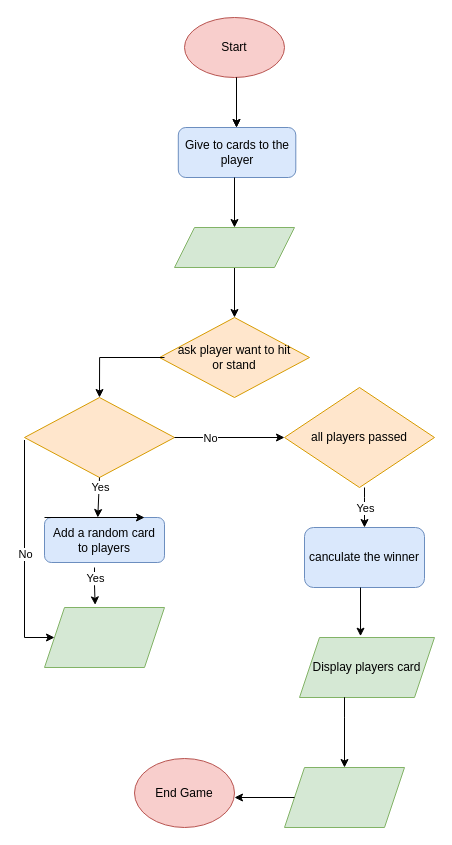
Image size: 452x845. Some labels were removed from this diagram. The shapes that lost their labels are listed below. From the top down, each one's centre as x and y in pixels, then its label:
[234,247]: Display hand
[99,437]: player want to hit
[104,637]: player is dusted
[344,797]: Announce the winner
